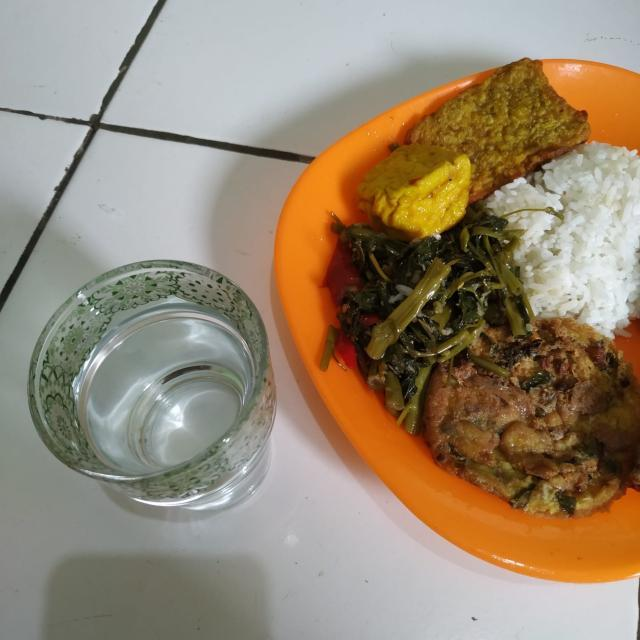nasi_putih: (416, 109, 640, 315)
telur_ayam_dadar: (358, 286, 640, 534)
